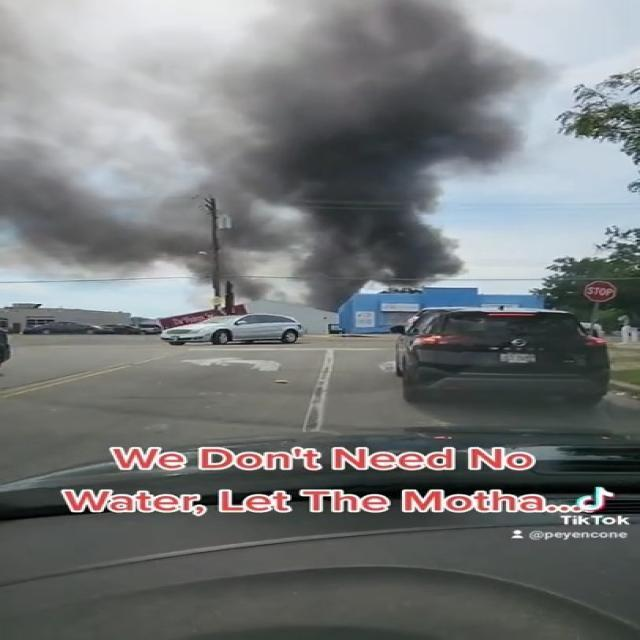Smoke: (194, 7, 540, 276)
